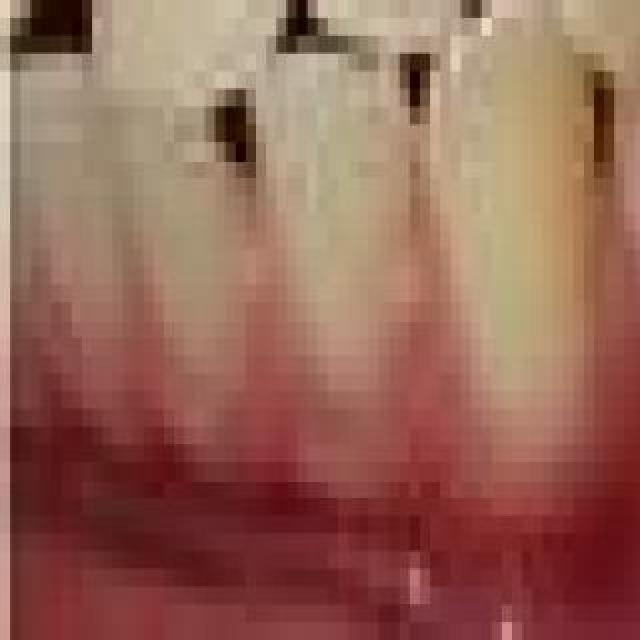spacing: (175, 65, 299, 245), (568, 38, 640, 222), (388, 38, 446, 214)
